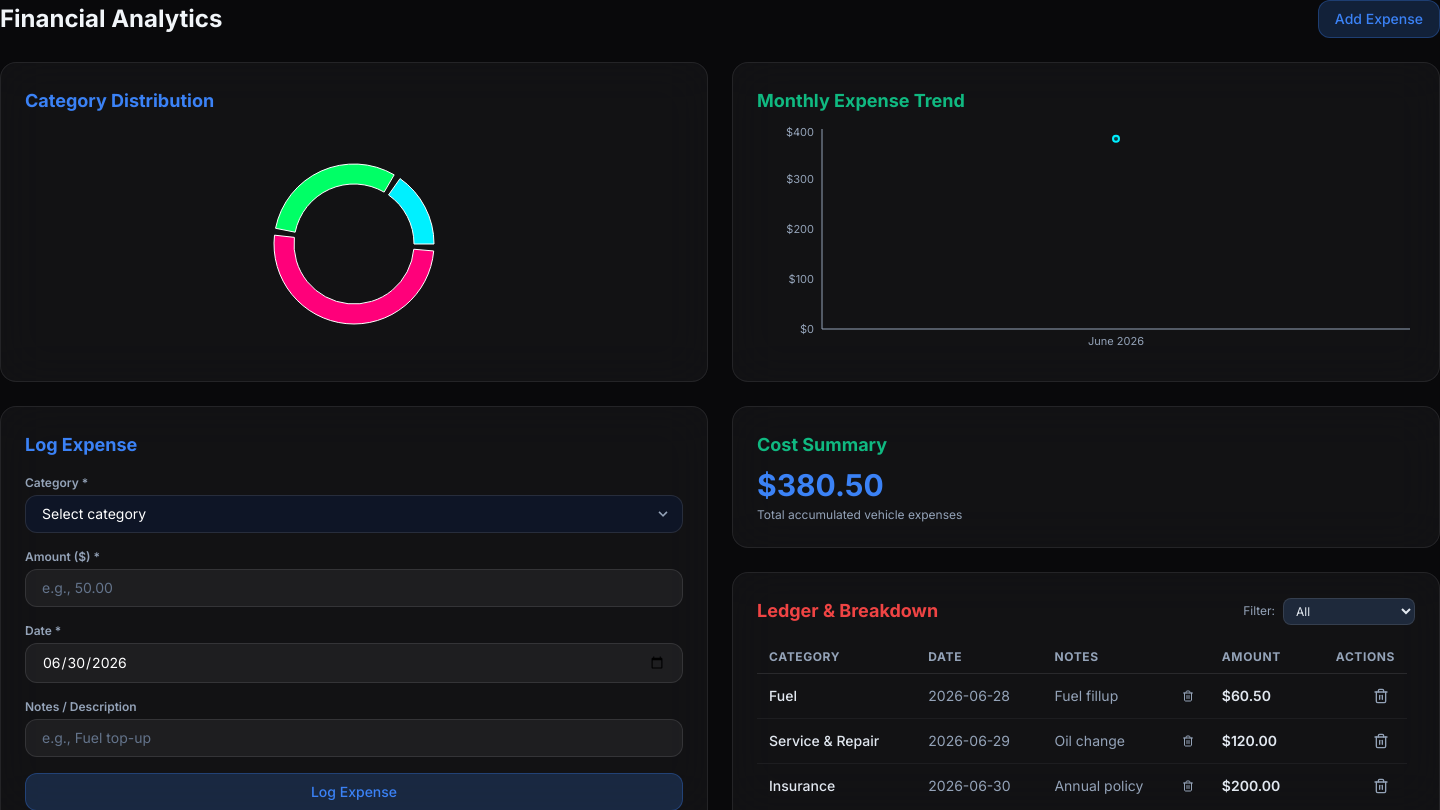
Scenario: FinanceView Unit Tests › Ledger List Display, Filtering, and Deletion Flow › restores the hidden item if deletion is cancelled
The image size is (1440, 810).
Click the button with test id "delete-exp-2" next to "Oil change": (1188, 741) [1178,731,1198,751]
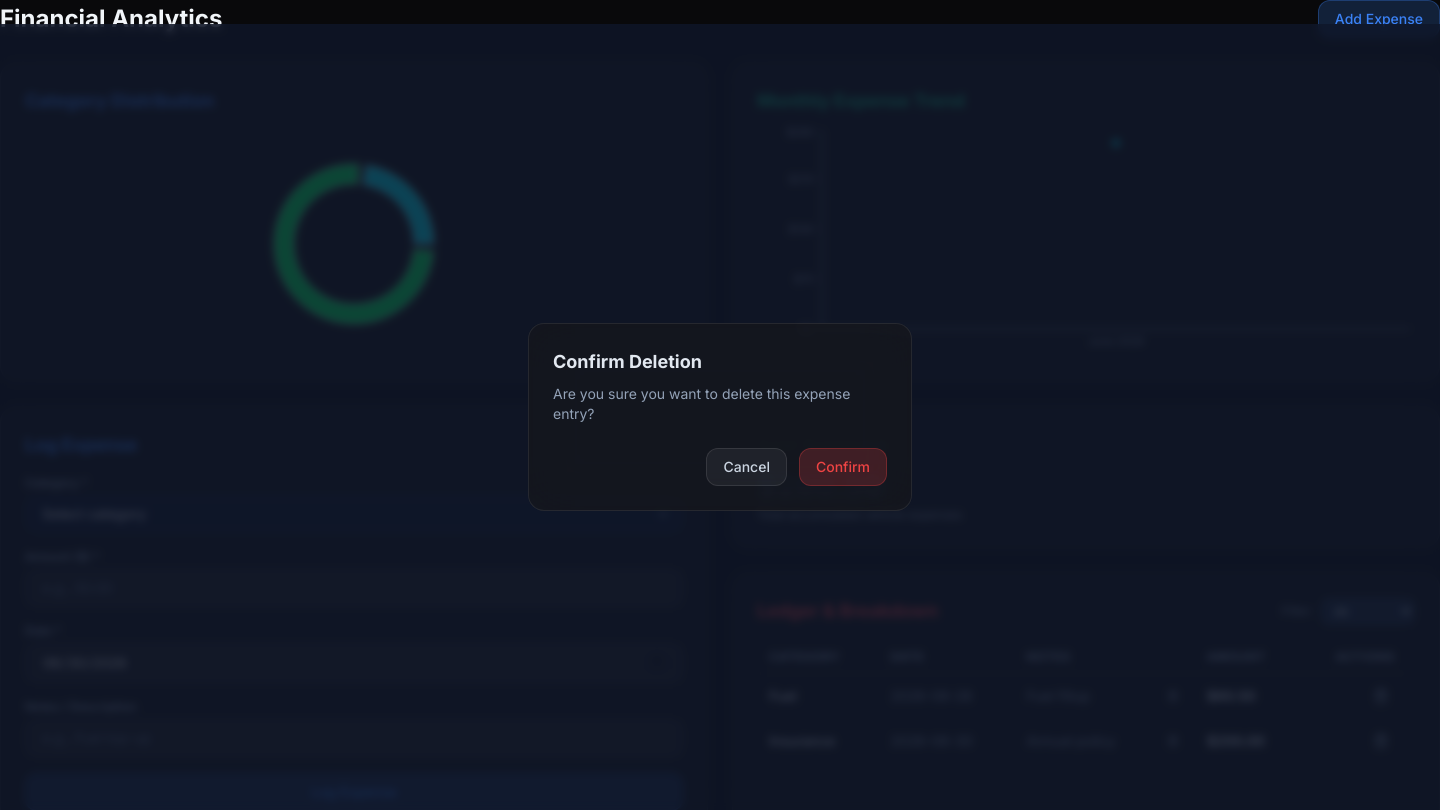
Note: Cancel deletion in modal
Click the button "Cancel": (747, 467) [706,448,787,486]
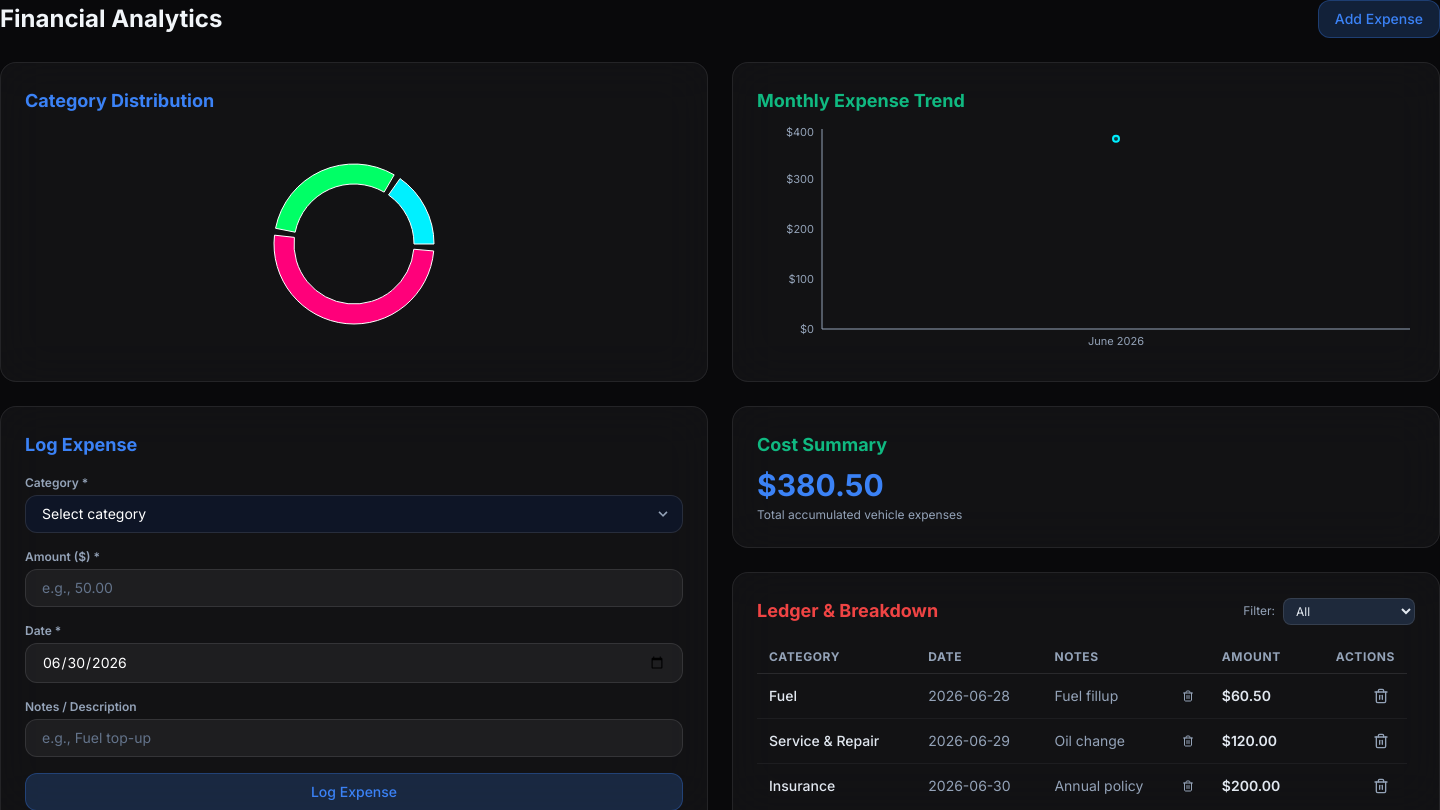
Now the heading "Confirm Deletion" is gone
Now the text "Oil change" is shown, box [1054,731,1125,751]
Now the text "$380.50" is shown, box [757,467,884,503]
